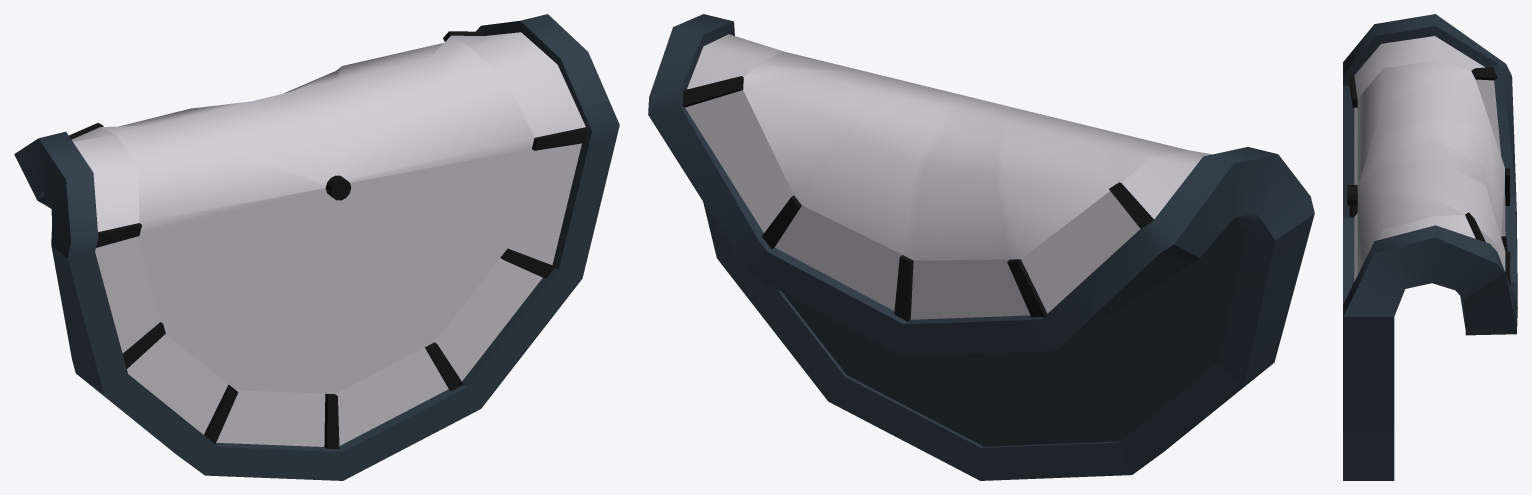
File: scene_Clock2.fbx
3 views of the same model, side by side, from view 1: azimuth 30°, elevation 25°; view 2: azimuth 150°, elevation 25°; view 3: azimuth 270°, elevation 25° (orthographic). The views are drawn at different scales.
Visible parts, largest first — view 1: Clock2; view 2: Clock2; view 3: Clock2.
Boxes of the visible parts, x1,y1,x2,y2 form: Clock2: [14, 14, 619, 480]; Clock2: [648, 14, 1314, 480]; Clock2: [1343, 14, 1517, 480].
Bounding box in the file's own units: 4.49 × 2.85 × 1.37.
